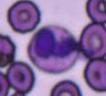N: (28, 25, 80, 74)
